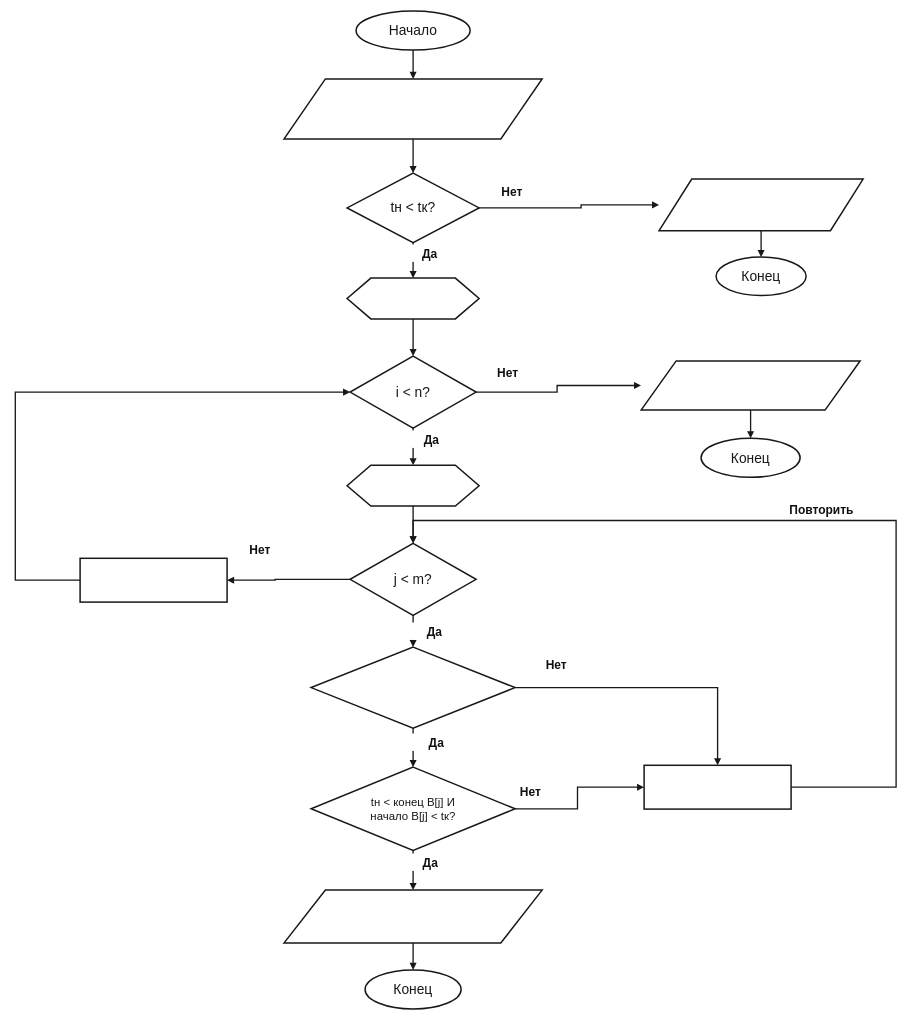
This 912x1020 diagram has some shape labels left out. The shapes that lost their labels are listed below. From the top down, each one's centre as x and y in pixels, then its label:
(413,108): Ввести R, B и ID заказа, начало tн и конец tк
(761,204): Ошибка: неверный временной интервал
(413,298): i = 0
(750,385): Все ресурсы доступны
(413,485): j = 0
(153,580): i = i + 1
(413,687): Тип/ID совпадают? Заказ другой?
(717,787): j = j + 1
(413,916): Найден конфликт: ресурс занят, назначение невозможно
